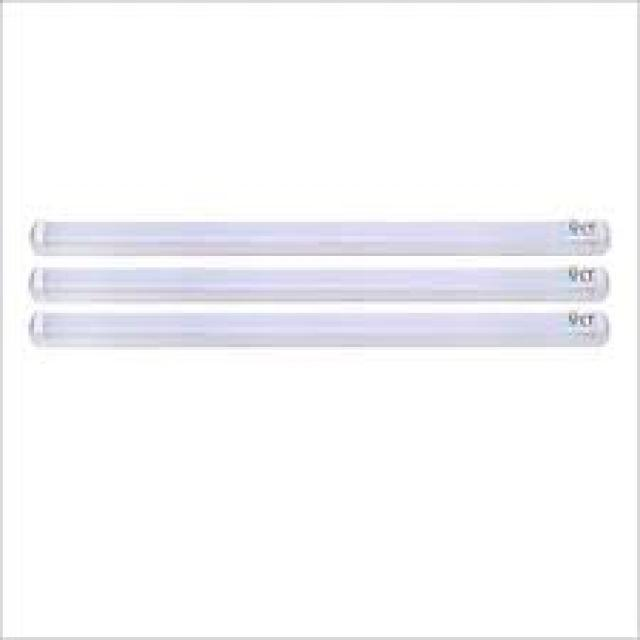tubelight_off: (29, 306, 610, 344), (29, 215, 611, 252), (30, 267, 612, 303)
